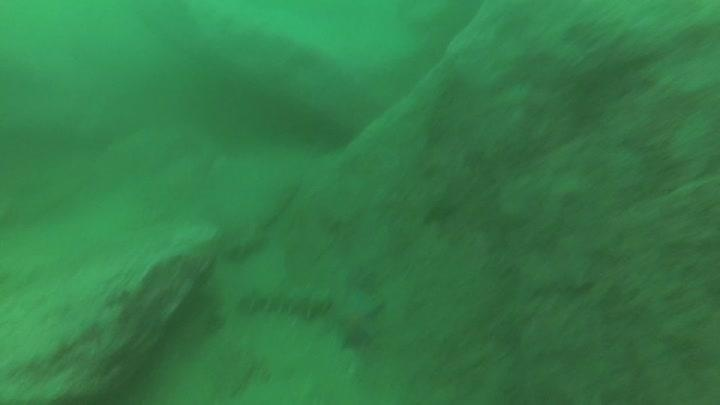holothurian: (236, 282, 335, 322)
starfish: (330, 287, 387, 353)
